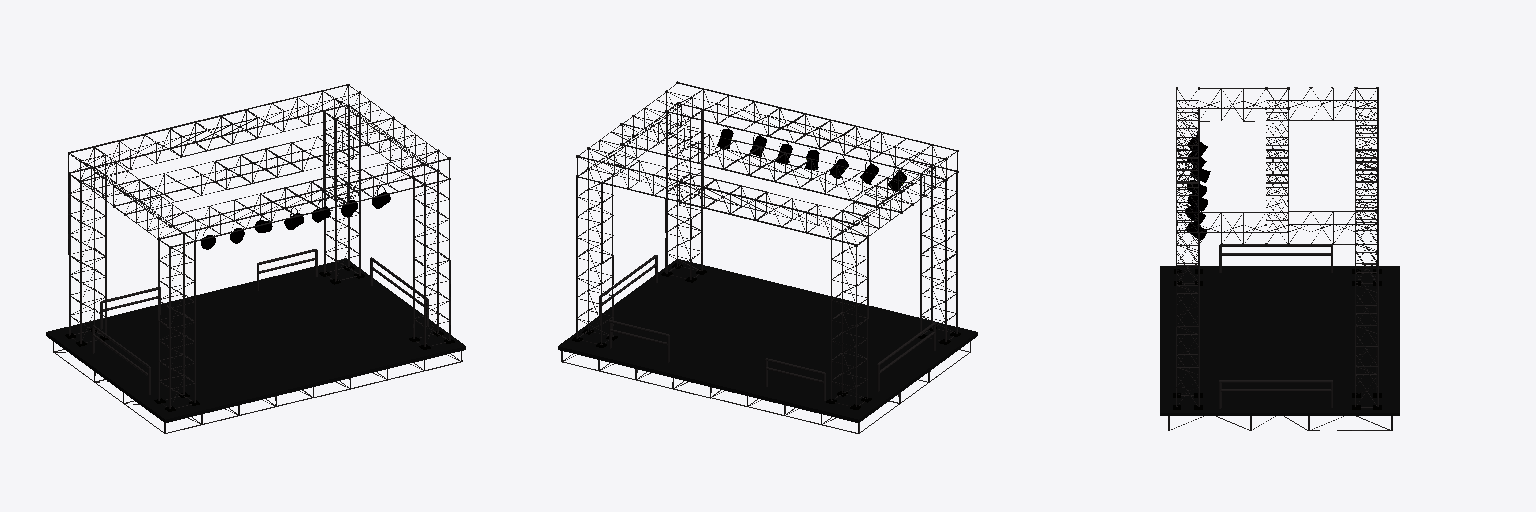
The model's file is stage.obj.
3 renders of one model, left to right at view 1: azimuth 30°, elevation 25°; view 2: azimuth 150°, elevation 25°; view 3: azimuth 270°, elevation 25°, orthographic.
Visible parts, largest first — view 1: Cube, Cube.005_Cube.016, Cube.004_Cube.015, Cube.007_Cube.018, Cube.011_Cube.022, Cube.010_Cube.021, Cube.002_Cube.013, Cube.003_Cube.014, Cube.006_Cube.017, Cube.001_Cube.012, Cube.008_Cube.019, Cube.013_Cube.002 (+3 smaller); view 2: Cube, Cube.005_Cube.016, Cube.004_Cube.015, Cube.007_Cube.018, Cube.003_Cube.014, Cube.001, Cube.011_Cube.022, Cube.002_Cube.013, Cube.006_Cube.017, Cube.001_Cube.012, Cube.008_Cube.019, Cube.014_Cube.003 (+3 smaller); view 3: Cube, Cube.005_Cube.016, Cube.004_Cube.015, Cube.056, Cube.057, Cube.001, Cube.011_Cube.022, Cube.007_Cube.018.
Part boxes in pixels (bbox=[...]): Cube: bbox=[46, 259, 465, 422]; Cube.005_Cube.016: bbox=[69, 147, 183, 238]; Cube.004_Cube.015: bbox=[325, 87, 436, 176]; Cube.007_Cube.018: bbox=[191, 118, 402, 194]; Cube.011_Cube.022: bbox=[413, 171, 450, 345]; Cube.010_Cube.021: bbox=[158, 233, 194, 408]; Cube.002_Cube.013: bbox=[145, 85, 358, 163]; Cube.003_Cube.014: bbox=[68, 106, 283, 181]; Cube.006_Cube.017: bbox=[113, 136, 328, 213]; Cube.001_Cube.012: bbox=[68, 170, 104, 342]; Cube.008_Cube.019: bbox=[234, 151, 449, 227]; Cube.013_Cube.002: bbox=[123, 351, 462, 433]; Cube: bbox=[558, 259, 977, 422]; Cube.005_Cube.016: bbox=[832, 153, 946, 243]; Cube.004_Cube.015: bbox=[577, 92, 692, 179]; Cube.007_Cube.018: bbox=[623, 117, 836, 192]; Cube.003_Cube.014: bbox=[653, 167, 868, 244]; Cube.001: bbox=[578, 169, 613, 344]; Cube.011_Cube.022: bbox=[665, 105, 703, 279]; Cube.002_Cube.013: bbox=[577, 149, 791, 225]; Cube.006_Cube.017: bbox=[699, 138, 912, 210]; Cube.001_Cube.012: bbox=[832, 231, 868, 406]; Cube.008_Cube.019: bbox=[666, 84, 881, 160]; Cube.014_Cube.003: bbox=[561, 351, 899, 433]; Cube: bbox=[1160, 266, 1399, 415]; Cube.005_Cube.016: bbox=[1199, 87, 1376, 121]; Cube.004_Cube.015: bbox=[1199, 211, 1376, 244]; Cube.056: bbox=[1219, 244, 1332, 272]; Cube.057: bbox=[1219, 380, 1332, 408]; Cube.001: bbox=[1355, 233, 1377, 407]; Cube.011_Cube.022: bbox=[1176, 232, 1198, 406]; Cube.007_Cube.018: bbox=[1266, 132, 1288, 245].
Bounding box in the file's own units: 19.39 × 12.54 × 13.34.